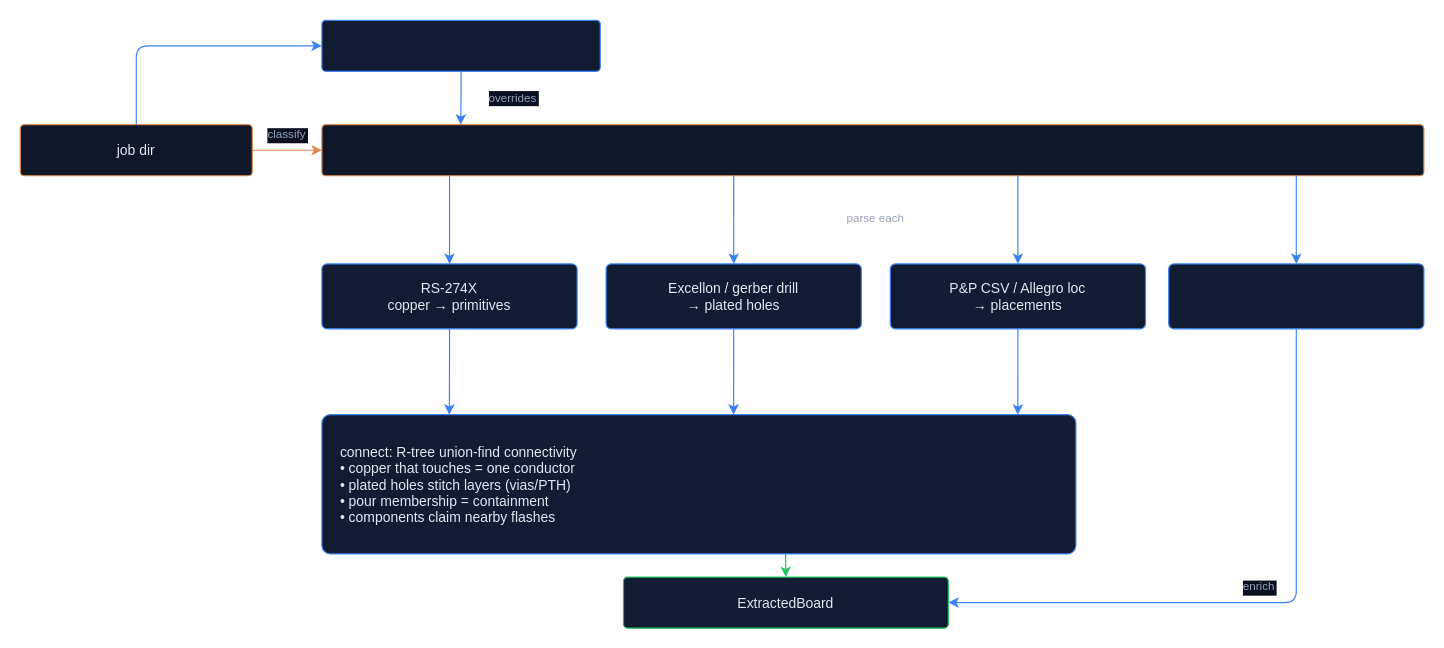
Some shapes in this 1444 by 648 pixel diagram are drawn without their labels. Each missing label, with the centre of its shape:
"BOM CSV (enrich)" belongs at pixel 1296 296.
"copper layers, drill, pick-and-place, (BOM)" belongs at pixel 872 150.
"mapping file (opt)" belongs at pixel 460 45.
